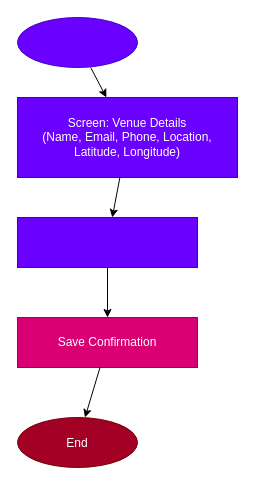
Some shapes in this 255 by 485 pixel diagram are drawn without their labels. Each missing label, with the centre of its shape:
"Create Record: Venue" belongs at (107,242).
"Start" belongs at (77,42).
